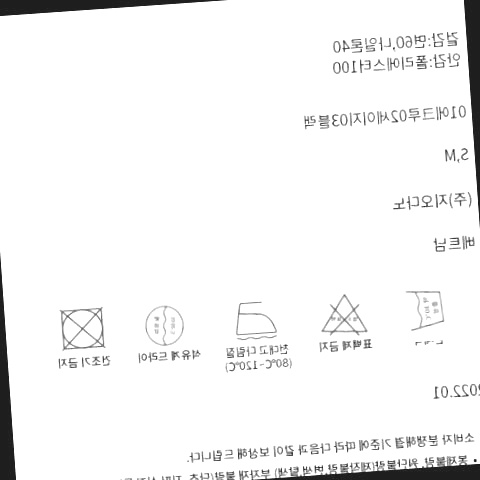30C: (399, 283, 448, 333)
DN_tumble_dry: (54, 304, 112, 352)
dry_clean_petrol_only: (135, 298, 187, 348)
iron: (229, 292, 282, 341)
non_chlorine_bleach: (313, 286, 371, 338)
